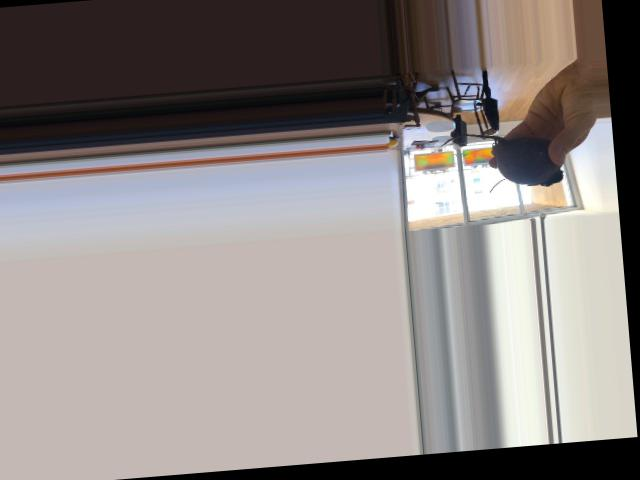beet: (440, 126, 563, 195)
